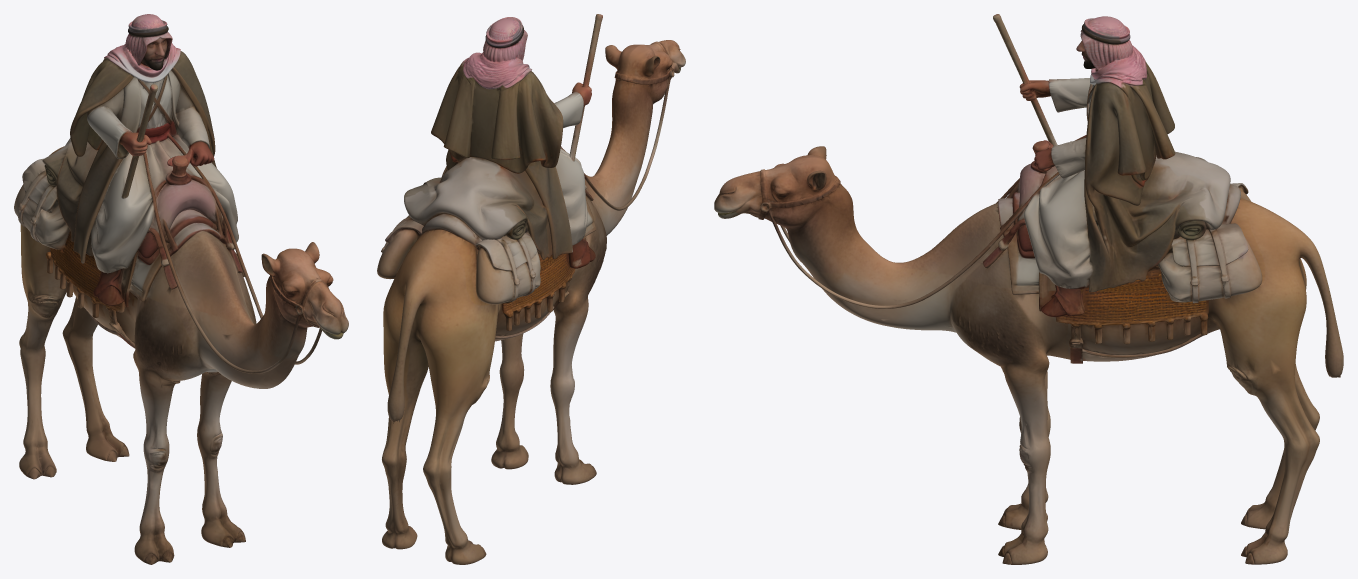
File: Bedouin_on_a_Camel-v2.glb
3 views of the same model, side by side, from view 1: azimuth 30°, elevation 25°; view 2: azimuth 150°, elevation 25°; view 3: azimuth 270°, elevation 25° (orthographic). The views are drawn at different scales.
Parts seen in each view (by area): view 1: Bedouin_on_a_Camel; view 2: Bedouin_on_a_Camel; view 3: Bedouin_on_a_Camel.
Part boxes in pixels (x1,y1,x2,y2): Bedouin_on_a_Camel: (14,14,348,564); Bedouin_on_a_Camel: (377,14,685,564); Bedouin_on_a_Camel: (714,14,1343,564).
Bounding box in the file's own units: 0.2782 × 0.8934 × 0.9775.
Materials: 1 (1 with a texture image).
